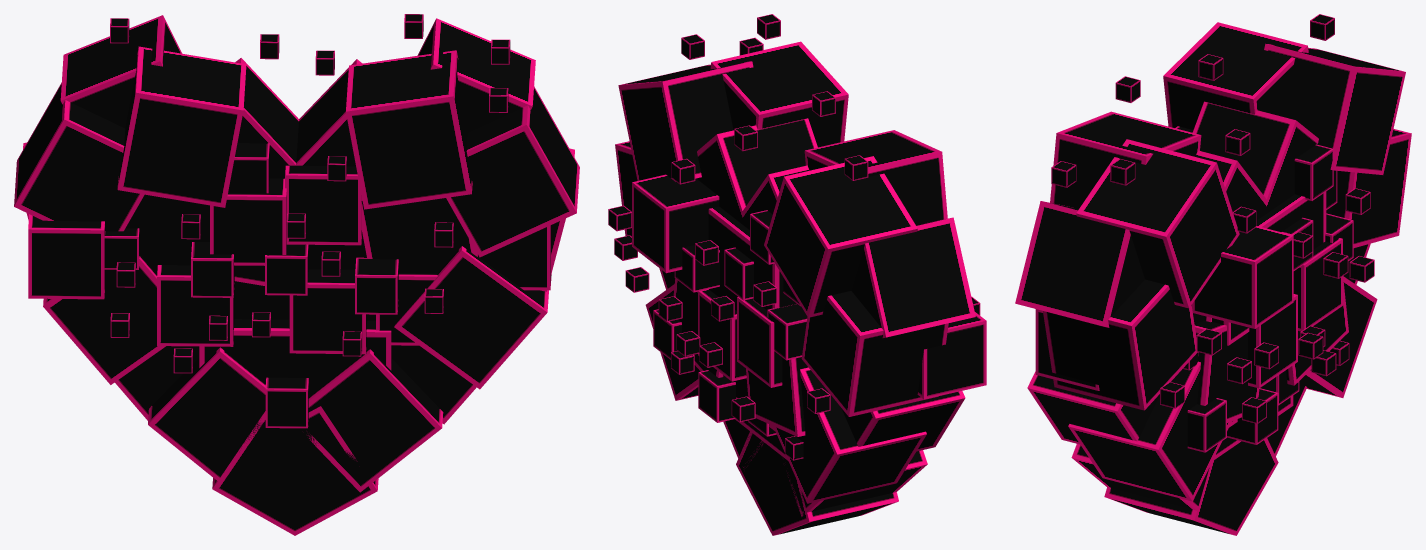
File: heart.fbx
3 renders of one model, left to right at view 1: azimuth 30°, elevation 25°; view 2: azimuth 150°, elevation 25°; view 3: azimuth 270°, elevation 25°, orthographic. The views are drawn at different scales.
Visible parts, largest first — view 1: pCube78; view 2: pCube78; view 3: pCube78.
Boxes of the visible parts, <box> form: pCube78: <box>14,14,579,535</box>; pCube78: <box>608,14,986,535</box>; pCube78: <box>1015,14,1411,535</box>.
Bounding box in the file's own units: 0.8331 × 0.8369 × 0.6234.
